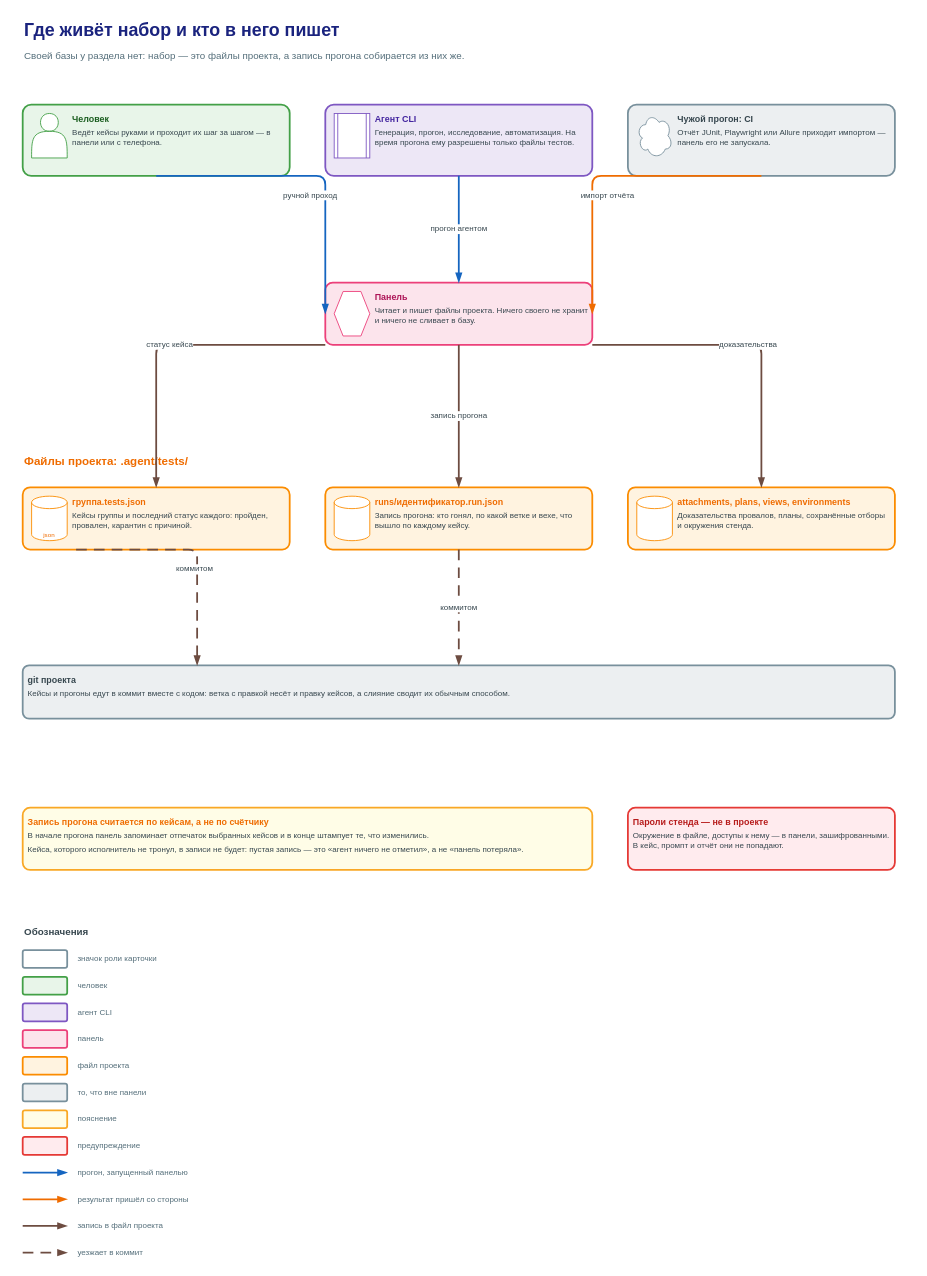
The diagram is 927 pixels wide and 1276 high, and some of its shapes have lost their labels. The centre of each missing label's shape, as x and y in pixels:
API: point 351,313
CI: point 654,135
CLI: point 351,135
QA: point 49,135
run: point 351,518
файлы: point 654,518
